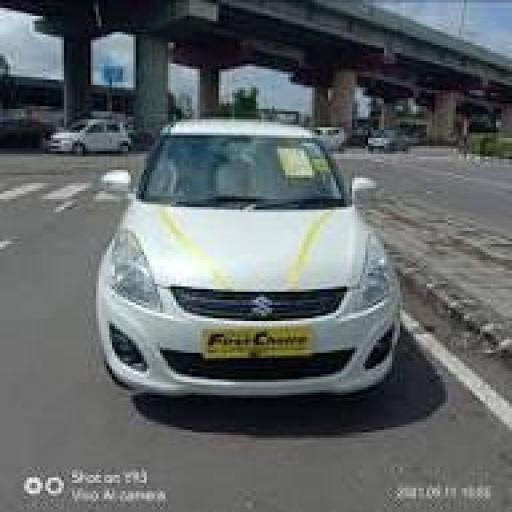License: (202, 330, 318, 358)
